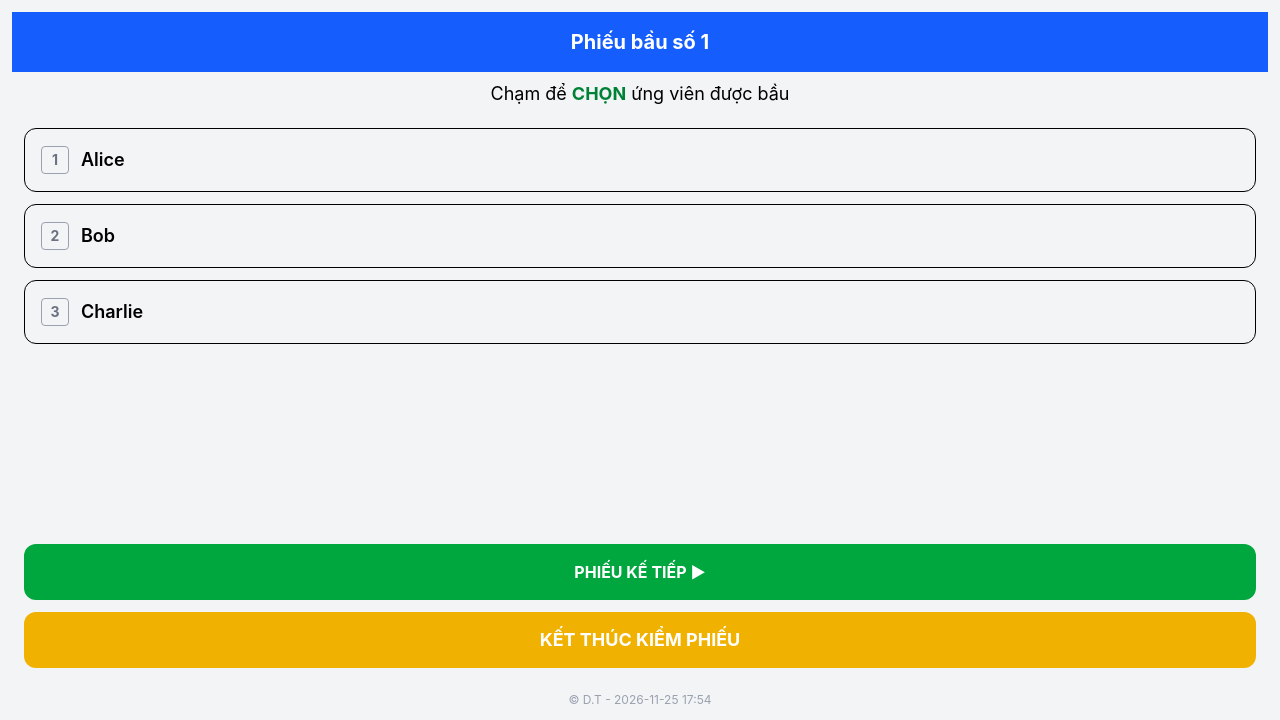
Test case: Counting screen › restores previous ballot state when clicking Previous
Note: count ballot 1: approved Alice
Click the button "1 Alice" at (103, 160), box [24,128,1256,192]
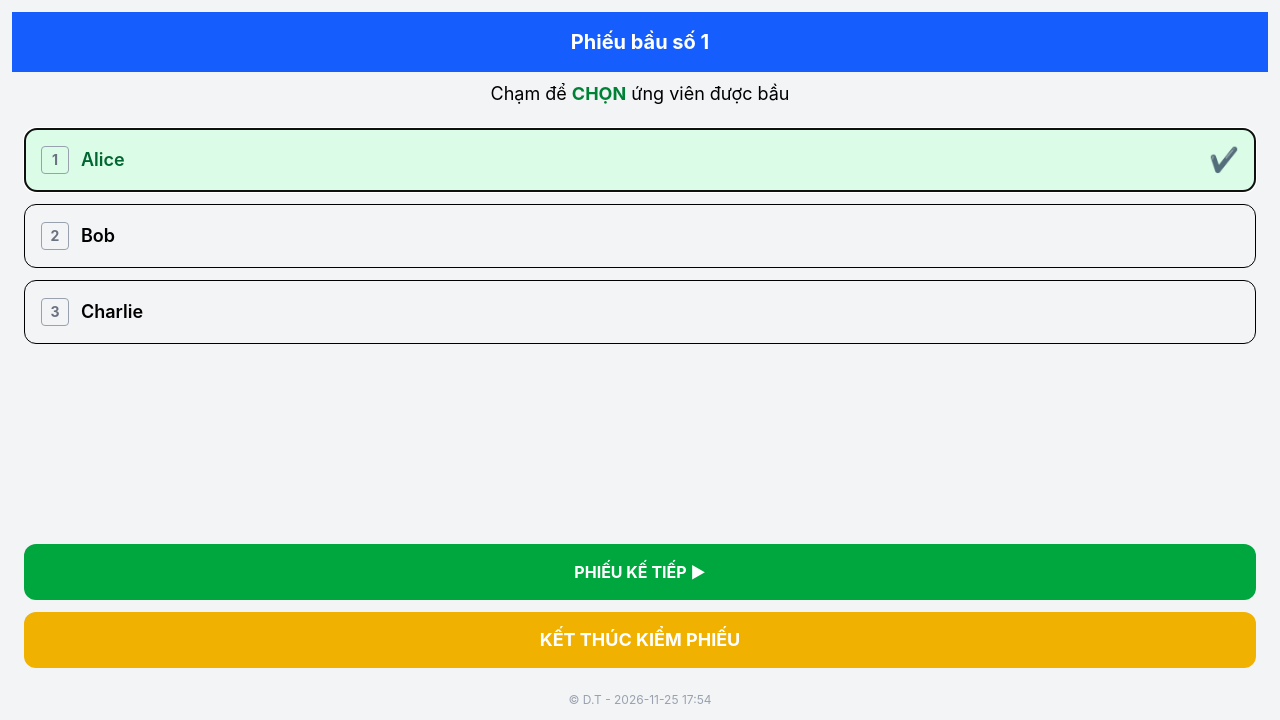
Click the button "PHIẾU KẾ TIẾP ▶" at (640, 572), box [24,544,1256,600]
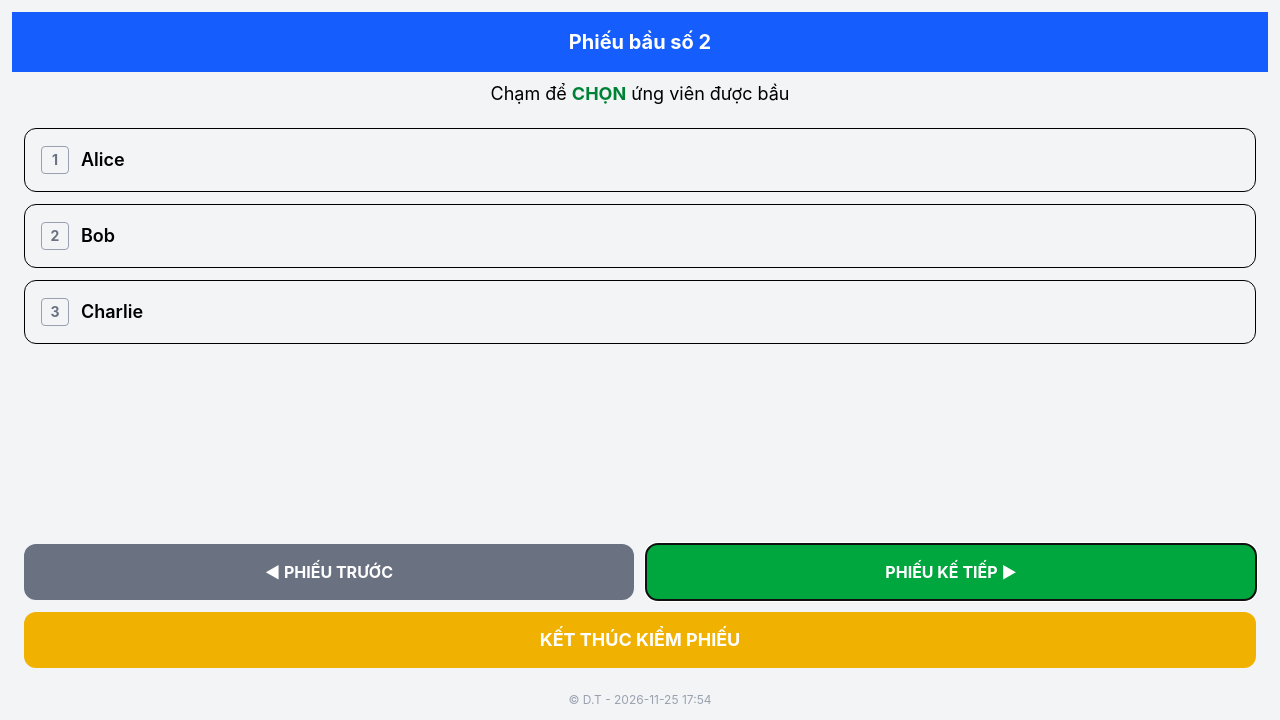
Note:  go back
Click the button "◀ PHIẾU TRƯỚC" at (329, 572), box [24,544,634,600]
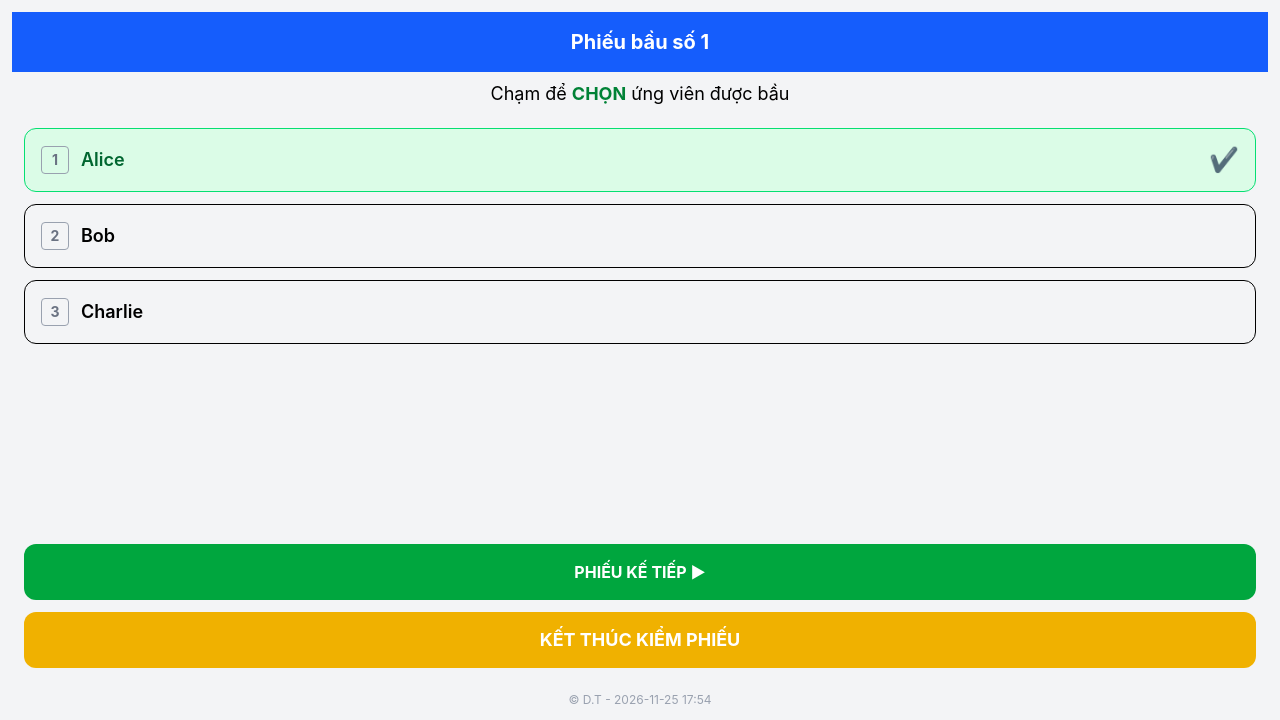
Now the text "Phiếu bầu số 1" is shown, box [12,12,1268,72]
